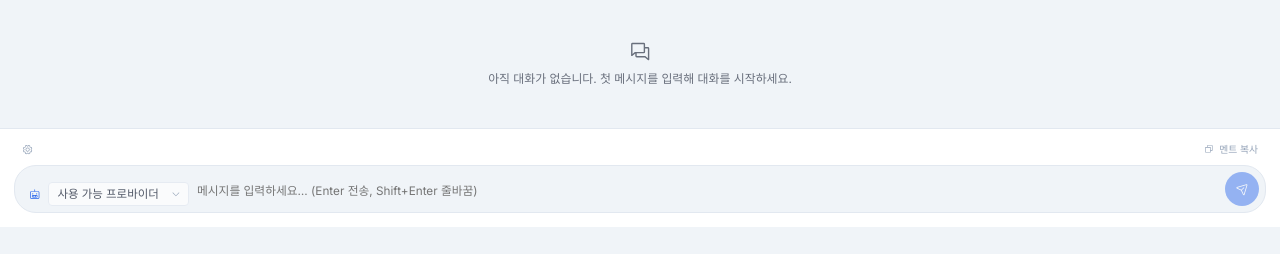
Test: 0391 §7-6 — chat 422 shows the server reason on screen › renders the whole server sentence in the toast, not a generic failure line
Type "??? ??? ??? ??" into the text box with class "conv-input" at (707, 192), box [197,178,1217,206]
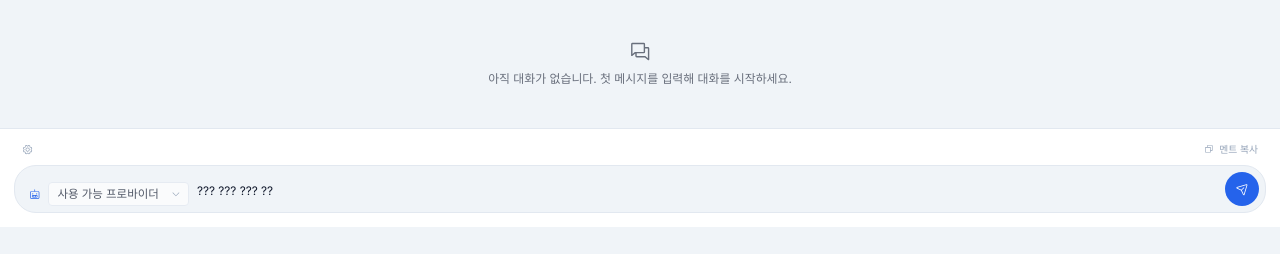
Now the button with class "conv-send" is enabled, box [1225,172,1259,206]
Submit the form, box [0,128,1279,227]
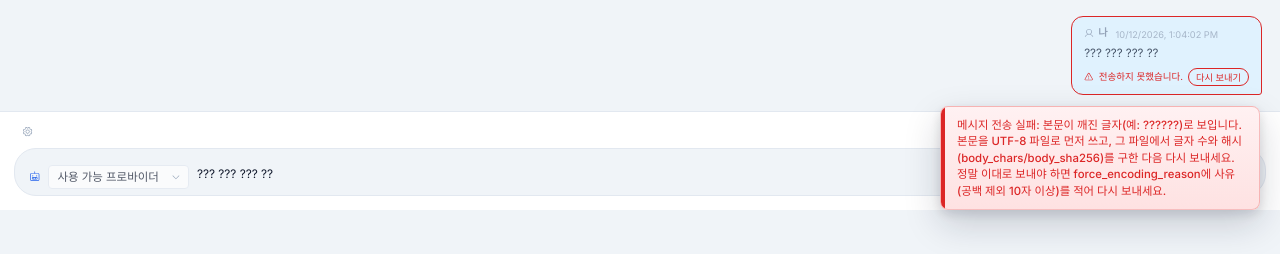
Now the text with class "toast-danger" is shown, box [940,106,1260,210]
Now the text "깨진 글자" is shown, box [957,118,1245,198]
Now the text "UTF-8 파일로 먼저" is shown, box [957,118,1245,198]
